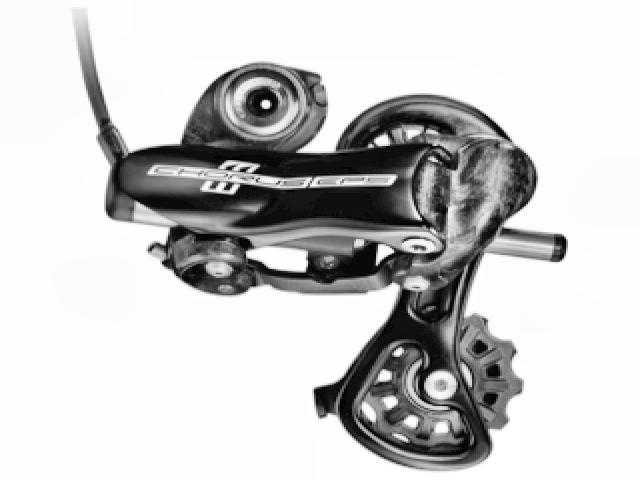rear_derailleur: (100, 58, 568, 472)
